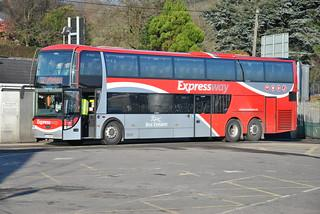bus: (29, 44, 299, 147)
